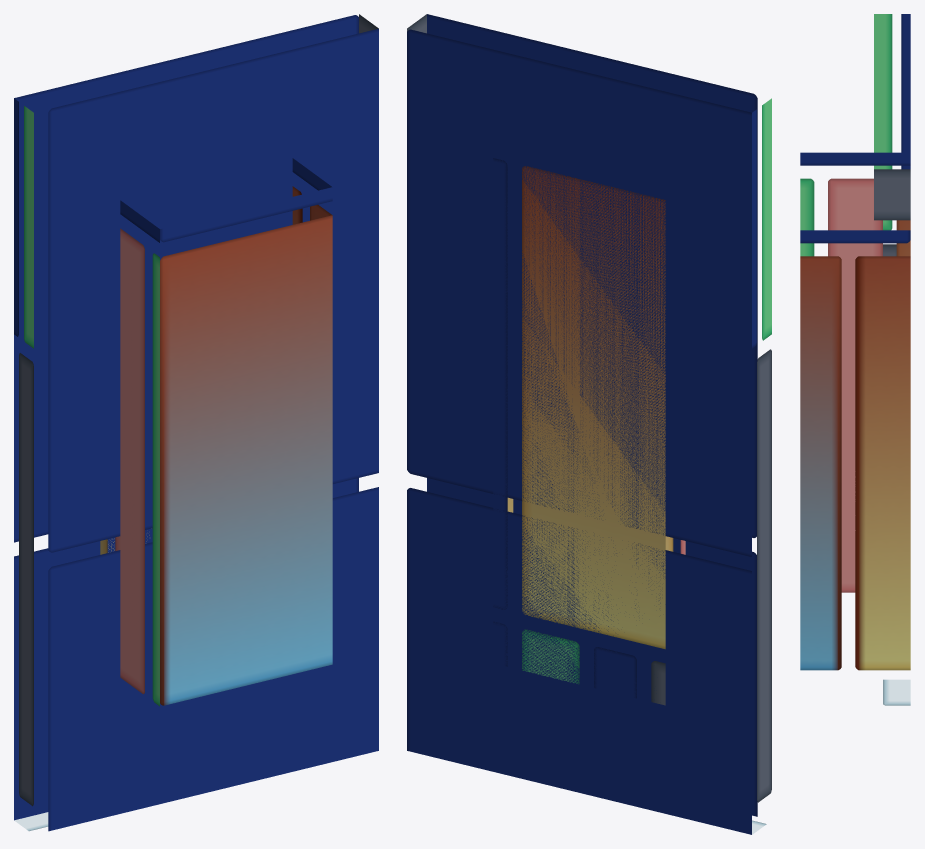
The model's file is Switch.obj.
3 renders of one model, left to right at view 1: azimuth 30°, elevation 25°; view 2: azimuth 150°, elevation 25°; view 3: azimuth 270°, elevation 25°, orthographic. The views are drawn at different scales.
Visible parts, largest first — view 1: SwitchBase, Switch; view 2: SwitchBase, Switch; view 3: Switch, SwitchBase.
Boxes of the visible parts, <box> form: SwitchBase: <box>14,14,378,831</box>; Switch: <box>100,158,332,706</box>; SwitchBase: <box>407,14,771,834</box>; Switch: <box>493,158,685,705</box>; Switch: <box>800,152,910,670</box>; SwitchBase: <box>874,14,910,705</box>.
Bounding box in the file's own units: 0.2 × 0.4 × 0.06.
1 material, 1 textured.
